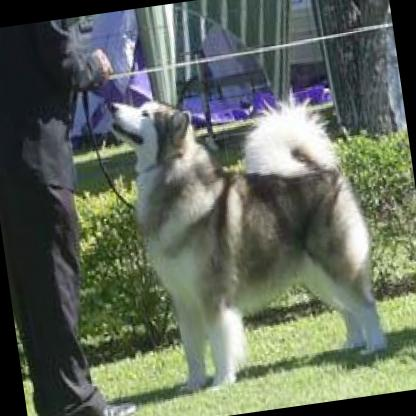malamute: (107, 66, 389, 394)
